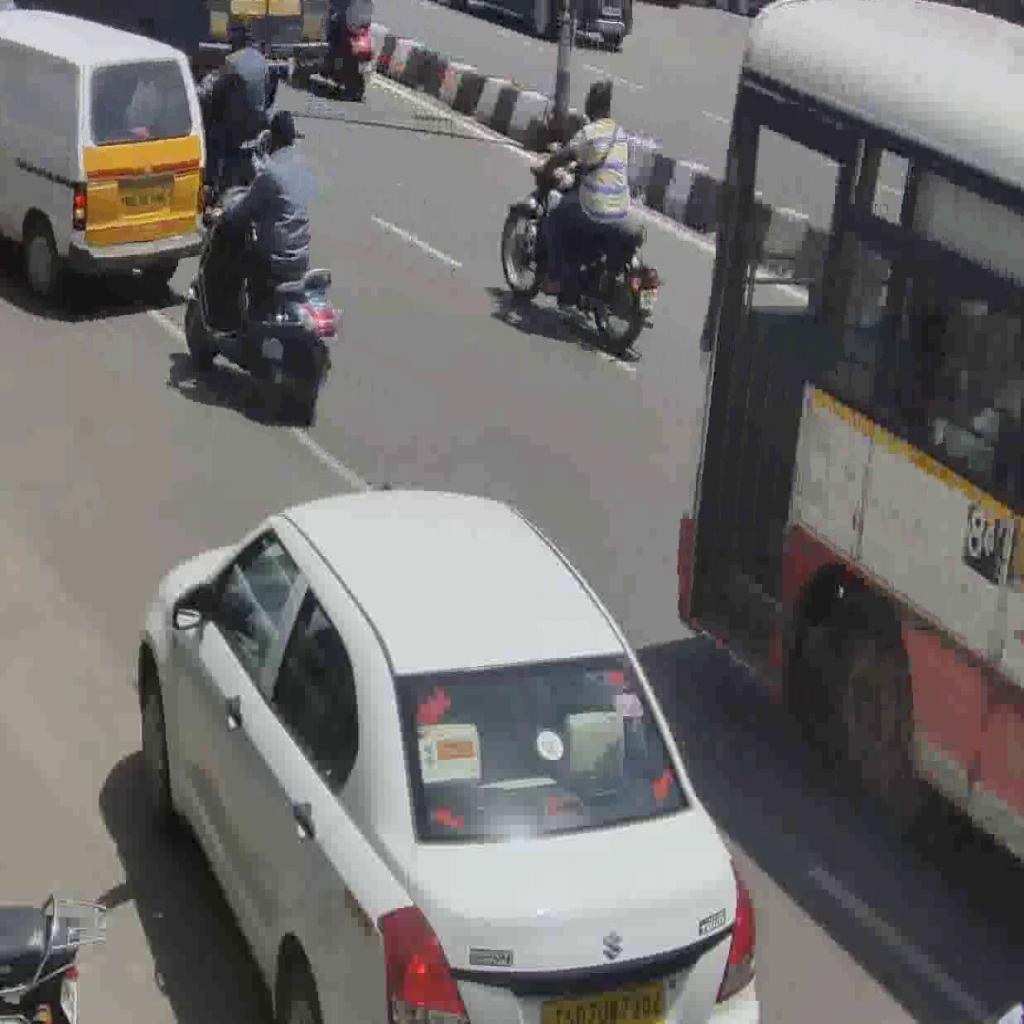bike: (183, 183, 341, 411), (498, 156, 659, 362)
lisc: (636, 286, 658, 313)
no_helmet: (264, 105, 298, 159), (582, 80, 616, 124)
rider: (209, 109, 315, 338), (530, 80, 630, 300)
